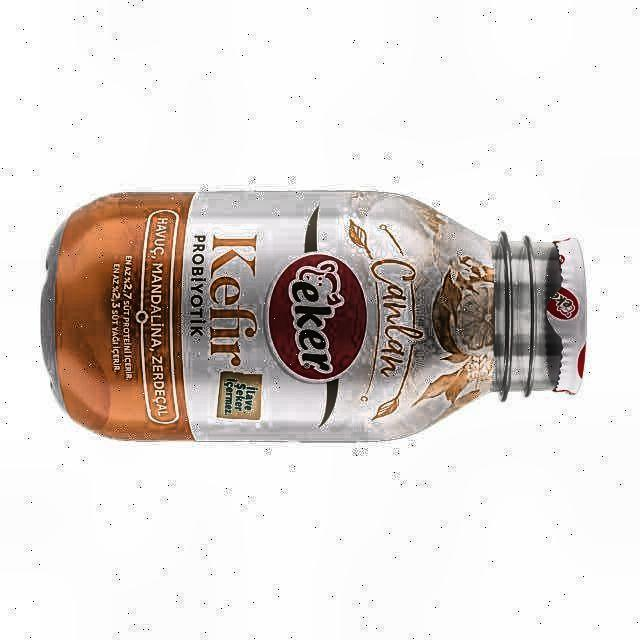plastic: (40, 190, 586, 442)
